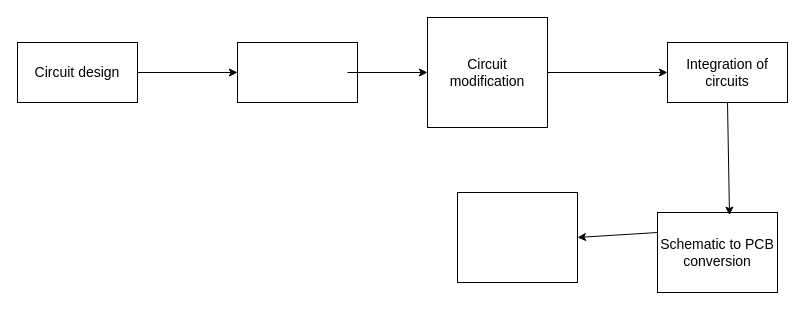
Image size: 805x310. Some labels were removed from this diagram. Each missing label, with the centre of its shape:
"PCB printing and component placement" belongs at [517,237].
"Simulation" belongs at [297,72].
